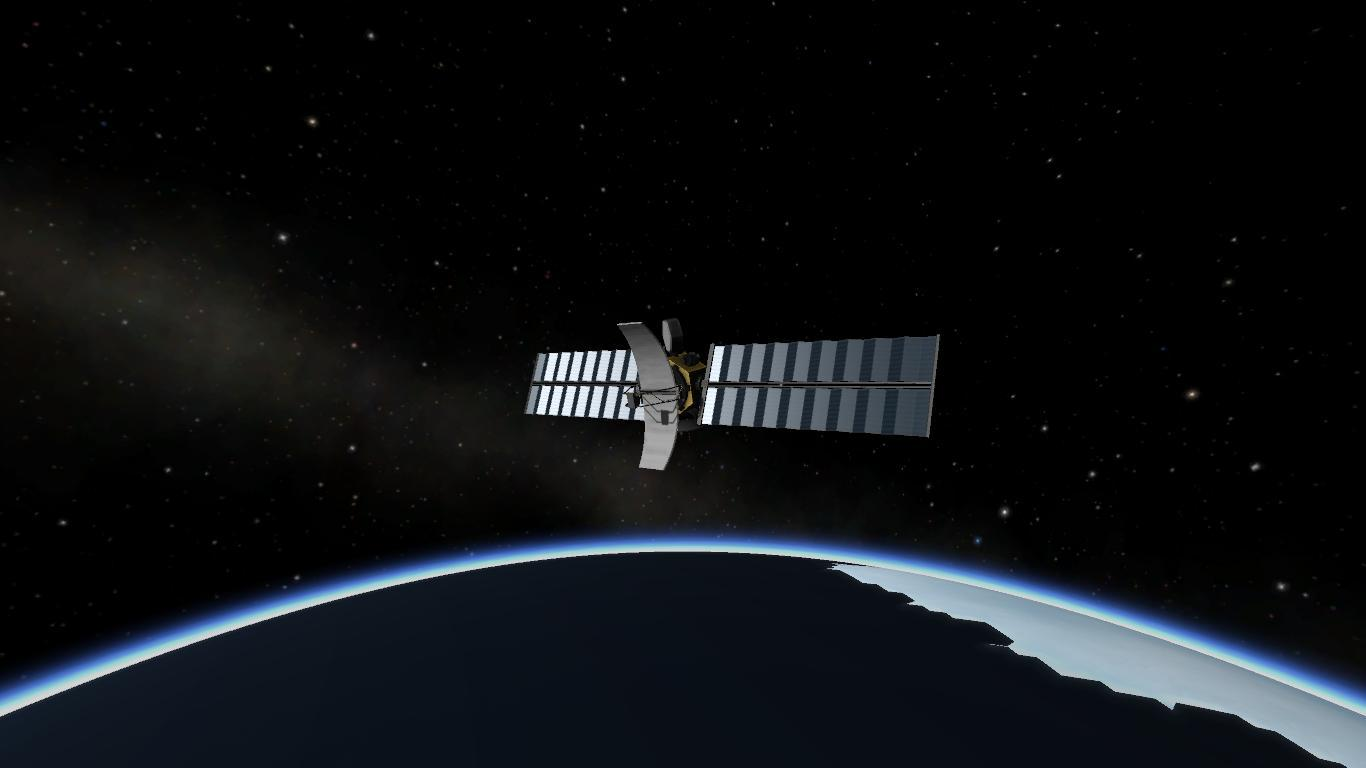antenna: (613, 319, 683, 474), (659, 318, 685, 357), (673, 410, 699, 434)
body: (644, 346, 712, 417)
solar: (695, 331, 945, 428), (521, 347, 649, 423)
